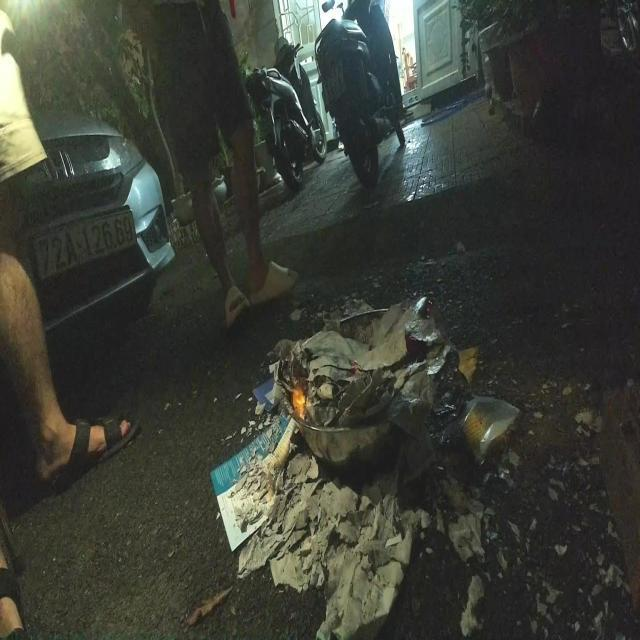Fire: (290, 380, 306, 420)
